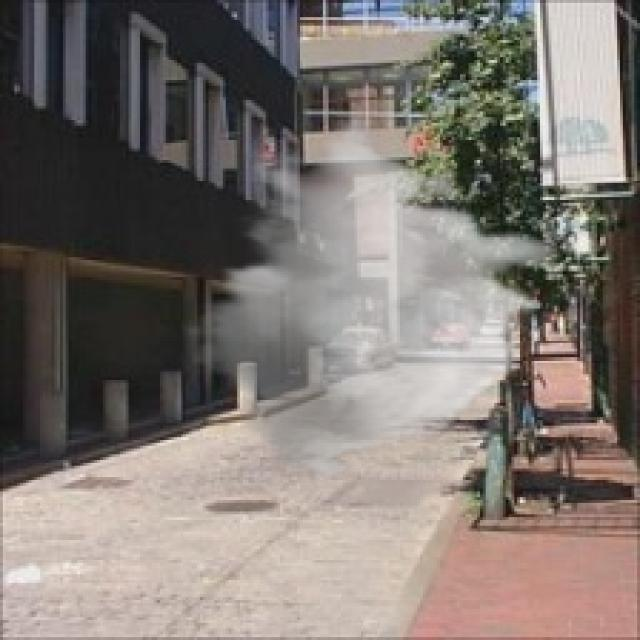smoke: (180, 114, 566, 483)
